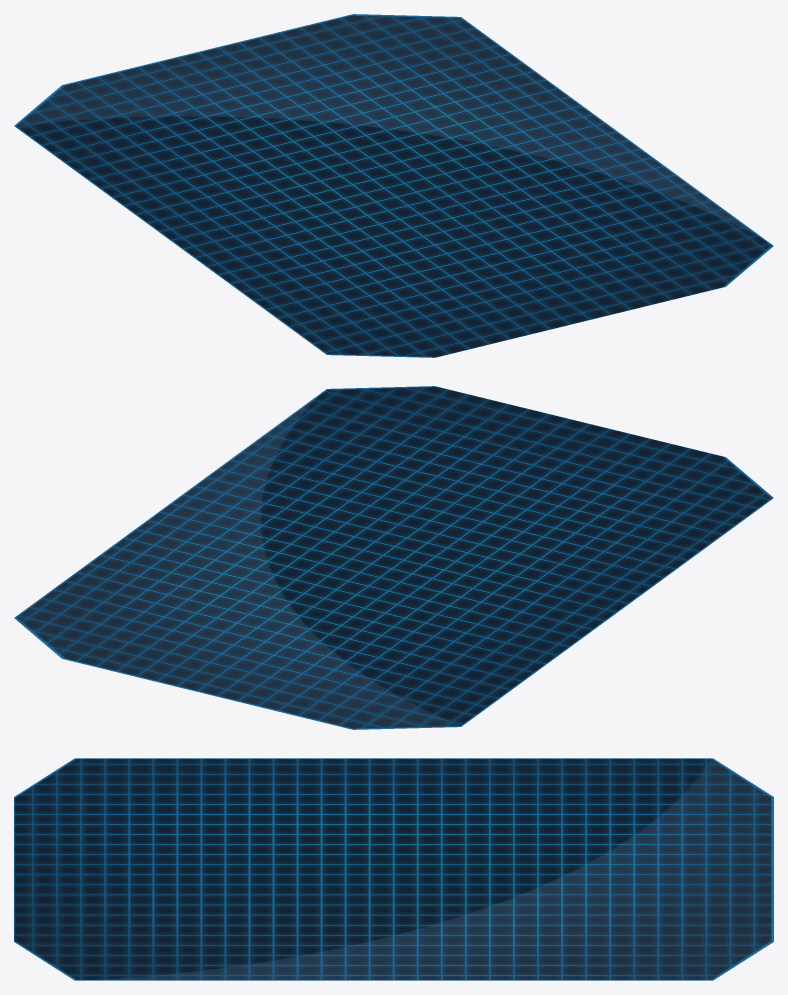
Rendered from ts_zjmgct002.FBX.
The picture shows the model from 3 angles, top to bottom: view 1: azimuth 30°, elevation 25°; view 2: azimuth 150°, elevation 25°; view 3: azimuth 270°, elevation 25°; orthographic projection.
Parts seen in each view (by area): view 1: ts_zjmgct002; view 2: ts_zjmgct002; view 3: ts_zjmgct002.
Part boxes in pixels (x1=…): ts_zjmgct002: x1=14, y1=14, x2=773, y2=357; ts_zjmgct002: x1=14, y1=386, x2=773, y2=729; ts_zjmgct002: x1=14, y1=758, x2=773, y2=980.
Size of the model in its own units: 2.47 by 2.38e-07 by 3.57.
